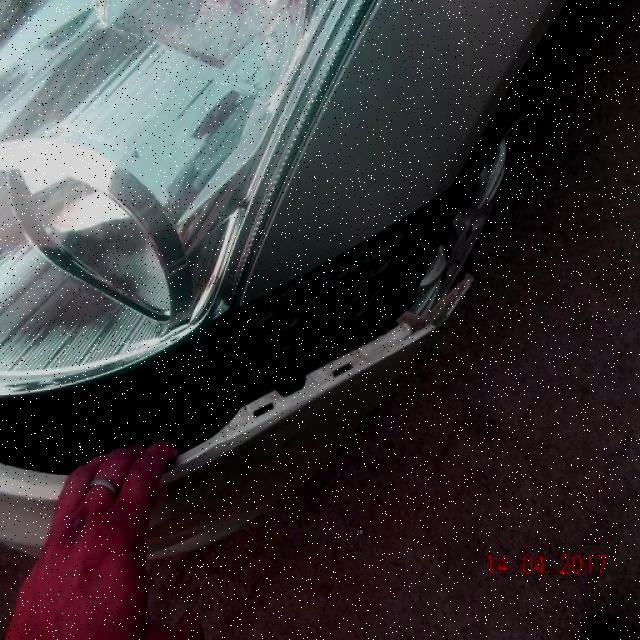car damage: (2, 188, 475, 479)
